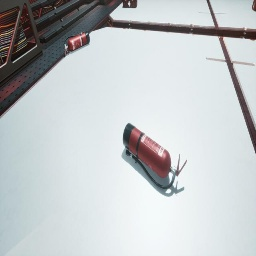FireExtinguisher ]: (123, 123, 187, 190), (64, 31, 90, 56)
FirstAidBox ,: (123, 0, 137, 8), (252, 0, 256, 11)
